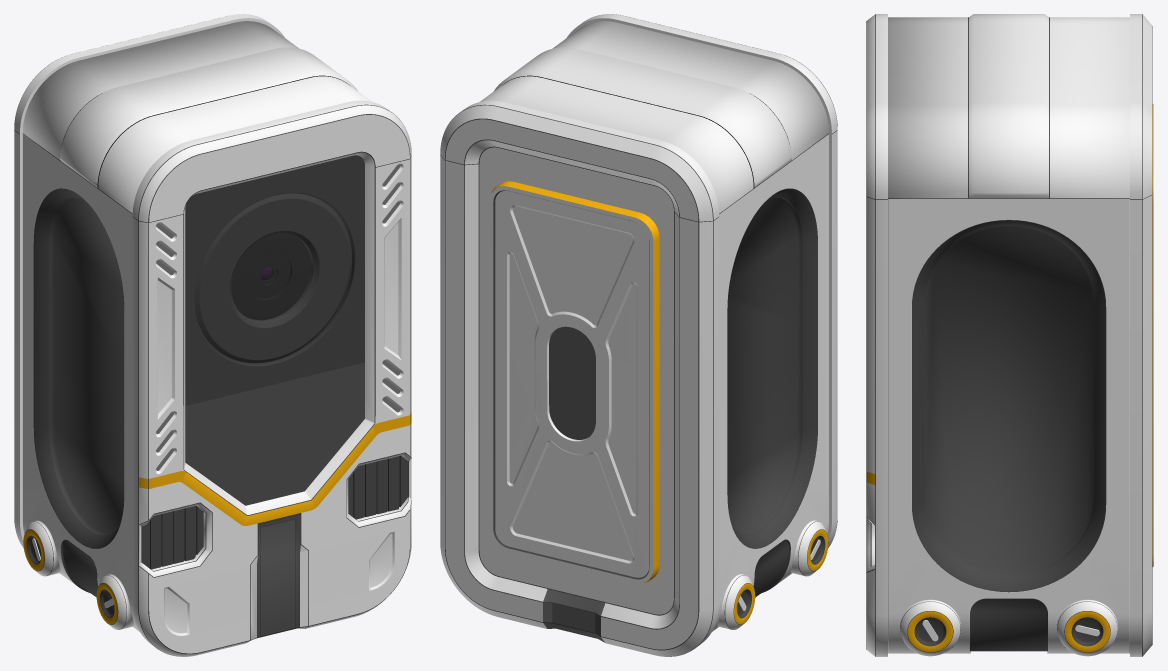
The model's file is cam.glb.
3 views of the same model, side by side, from view 1: azimuth 30°, elevation 25°; view 2: azimuth 150°, elevation 25°; view 3: azimuth 270°, elevation 25° (orthographic). The views are drawn at different scales.
Visible parts, largest first — view 1: shexiang-17, shexiang-10, shexiang-07, shexiang-18, shexiang-08, shexiang-15, shexiang-16; view 2: shexiang-18, shexiang-10, shexiang-19, shexiang-17; view 3: shexiang-10, shexiang-18, shexiang-17, shexiang-19.
Part boxes in pixels (left/top/right/bottom): shexiang-17: left=132, top=100, right=411, bottom=656; shexiang-10: left=22, top=21, right=371, bottom=631; shexiang-07: left=185, top=155, right=364, bottom=405; shexiang-18: left=14, top=14, right=284, bottom=548; shexiang-08: left=231, top=233, right=311, bottom=320; shexiang-15: left=141, top=505, right=203, bottom=569; shexiang-16: left=348, top=455, right=408, bottom=519; shexiang-18: left=440, top=100, right=719, bottom=656; shexiang-10: left=480, top=21, right=828, bottom=631; shexiang-19: left=489, top=181, right=659, bottom=583; shexiang-17: left=567, top=14, right=837, bottom=548; shexiang-10: left=888, top=14, right=1129, bottom=656; shexiang-18: left=1130, top=14, right=1152, bottom=656; shexiang-17: left=866, top=14, right=887, bottom=656; shexiang-19: left=1152, top=104, right=1153, bottom=566.
Size of the model in its own units: 0.0321 by 0.0551 by 0.0262.
